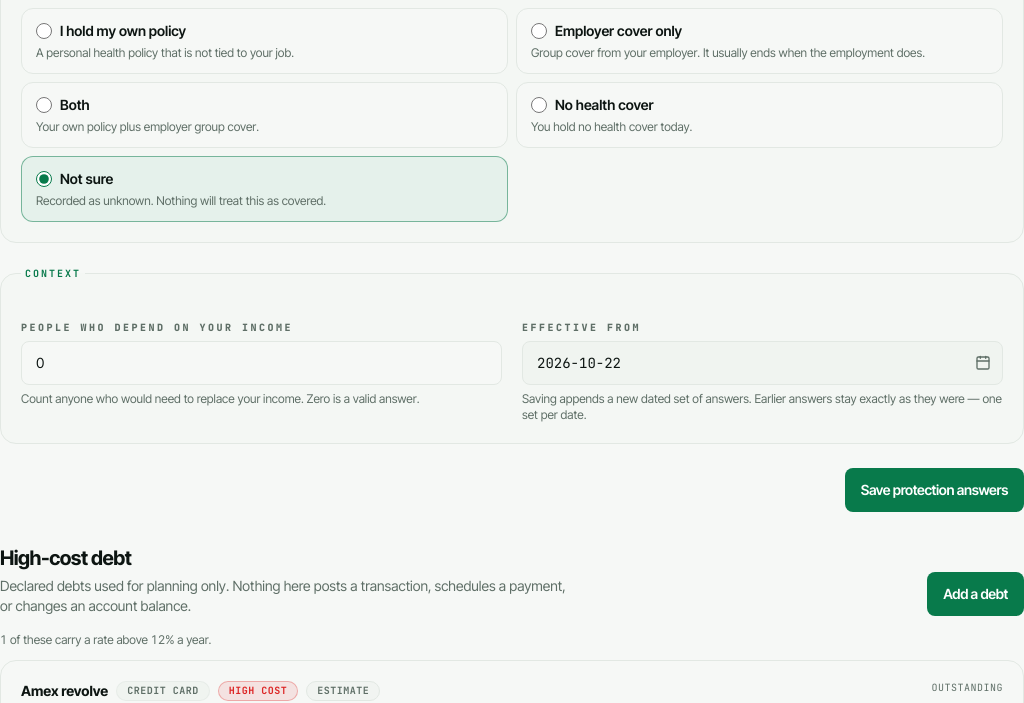
Test case: ProtectionDebtPanel interactions › offers only open loan liabilities when linking a new debt
(page scrolled)
Step 1. Click the button "Add a debt" → click(976, 594), box [927, 572, 1023, 616]
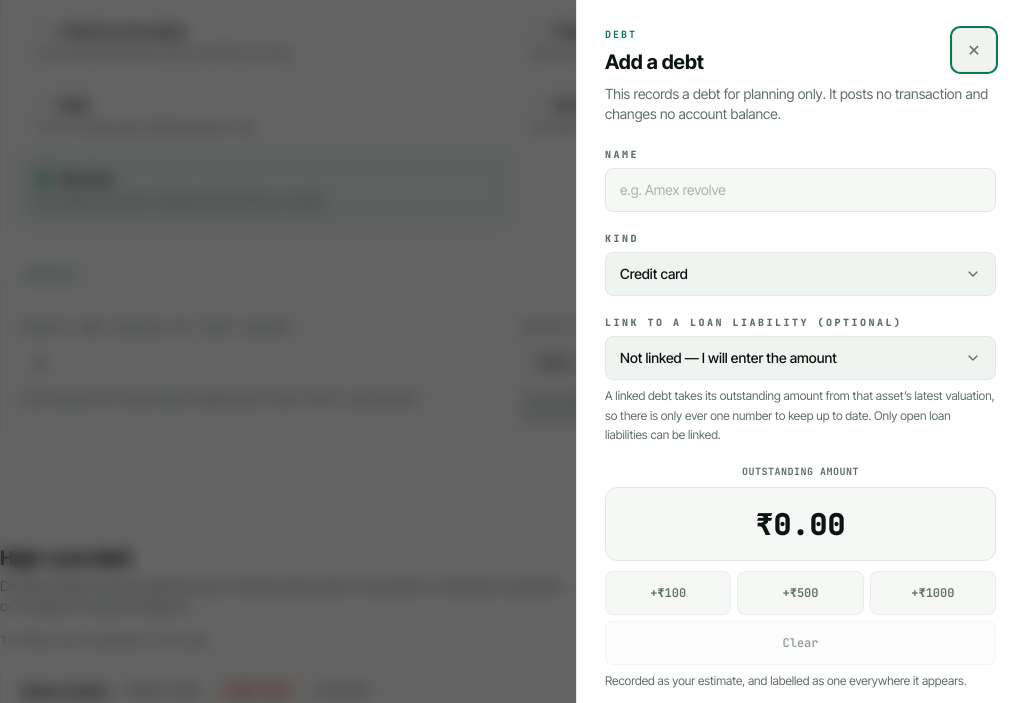
Step 2. Click the dropdown named "Linked loan liability" → click(800, 358), box [605, 336, 996, 380]
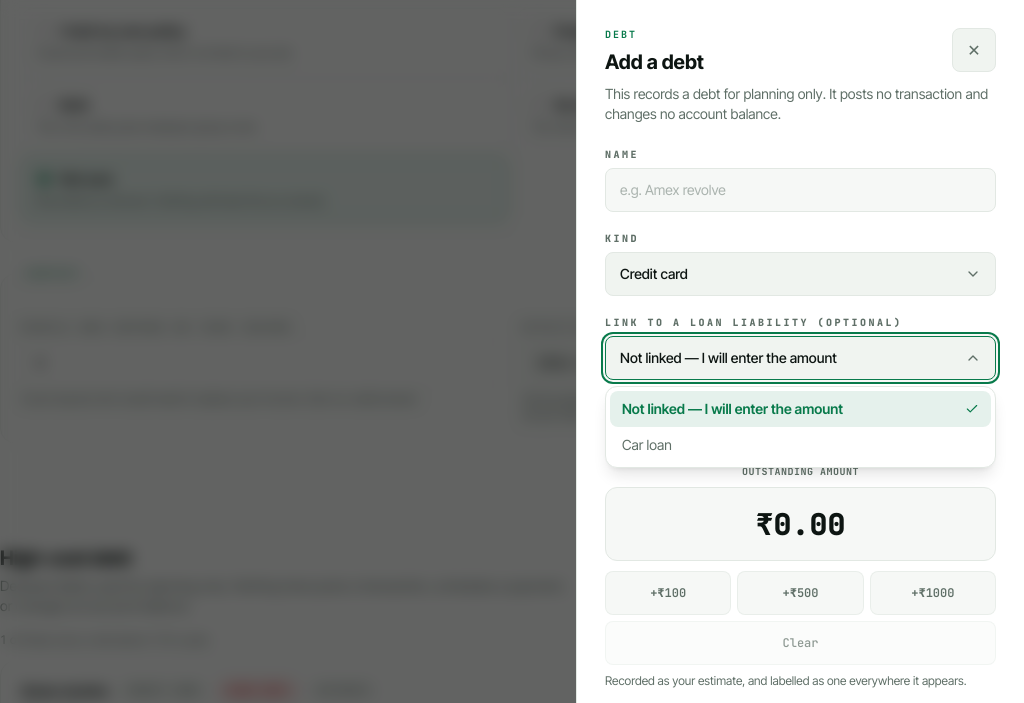
Now the option "Car loan" is shown, box [622, 436, 672, 453]
